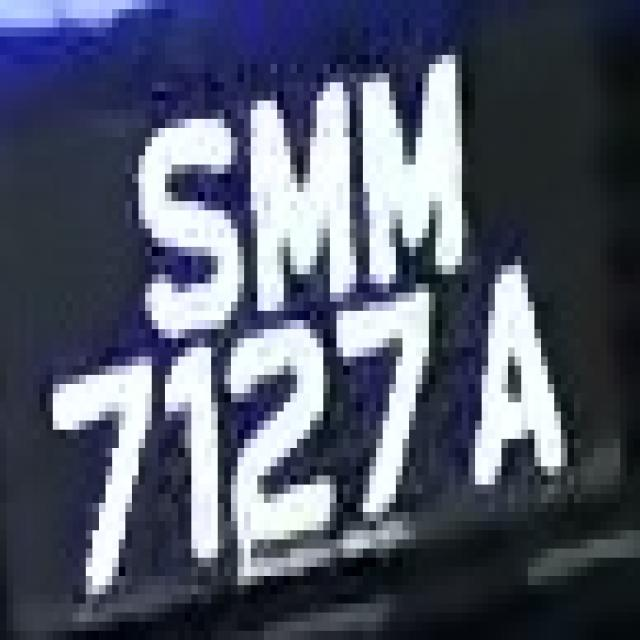1: (158, 356, 224, 567)
2: (211, 329, 350, 576)
7: (310, 292, 442, 558), (20, 348, 152, 612)
A: (455, 238, 587, 521)
M: (336, 18, 468, 302), (244, 64, 370, 320)
S: (105, 82, 238, 348)
